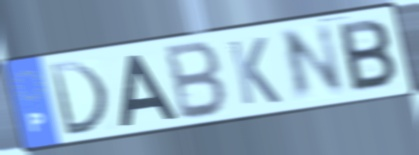A: (117, 52, 180, 129)
B: (163, 38, 230, 123), (335, 17, 400, 96)
D: (46, 59, 112, 139)
K: (225, 35, 284, 108)
N: (279, 20, 348, 107)
